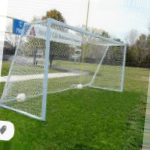goals: (1, 17, 129, 123)
